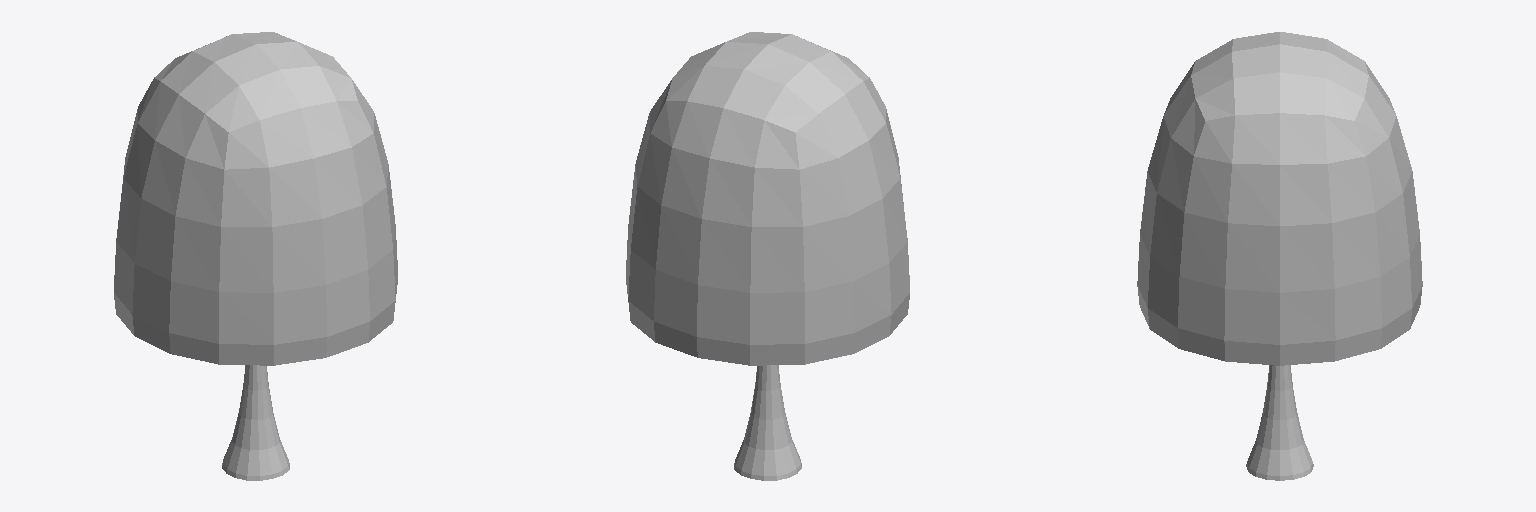
File: tree_gumdrop_01.obj
3 renders of one model, left to right at view 1: azimuth 30°, elevation 25°; view 2: azimuth 150°, elevation 25°; view 3: azimuth 270°, elevation 25°, orthographic.
Visible parts, largest first — view 1: Tree_Gumdrop_Cube.014; view 2: Tree_Gumdrop_Cube.014; view 3: Tree_Gumdrop_Cube.014.
Boxes of the visible parts, <box> form: Tree_Gumdrop_Cube.014: <box>114,32,397,480</box>; Tree_Gumdrop_Cube.014: <box>626,32,909,480</box>; Tree_Gumdrop_Cube.014: <box>1137,32,1422,480</box>.
Bounding box in the file's own units: 1.69 × 2.77 × 1.69.